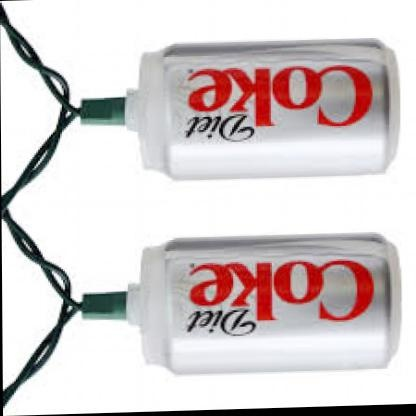trash: (127, 39, 399, 178), (139, 234, 400, 372)
